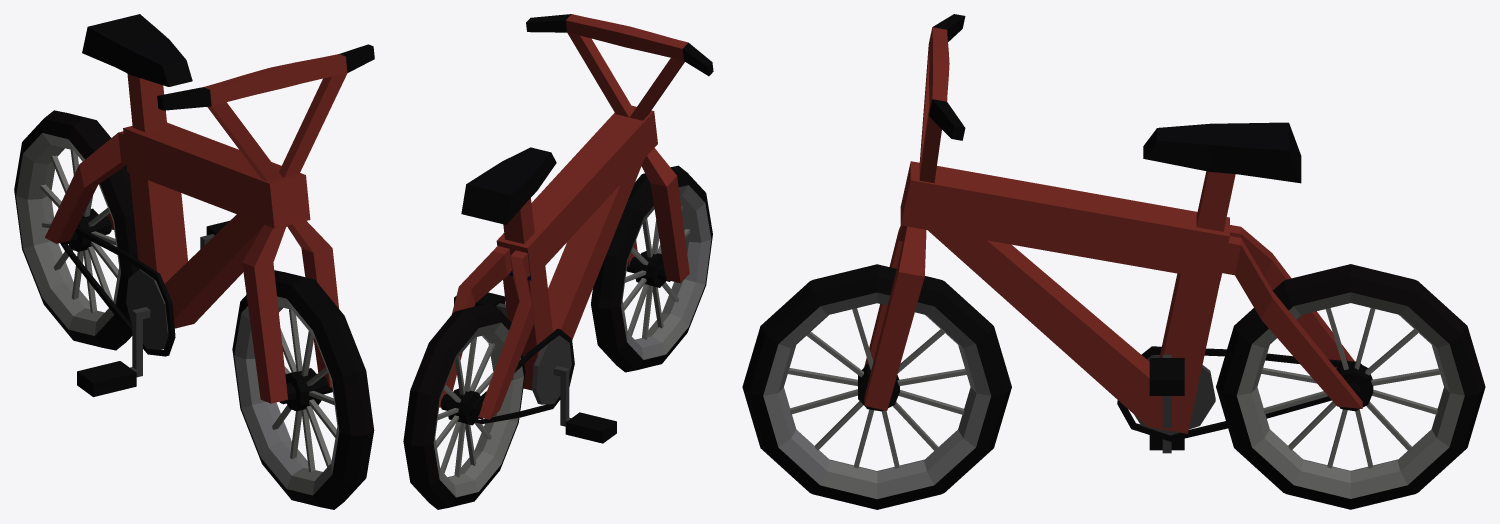
File: bicycle1.glb
3 renders of one model, left to right at view 1: azimuth 30°, elevation 25°; view 2: azimuth 150°, elevation 25°; view 3: azimuth 270°, elevation 25°, orthographic. The views are drawn at different scales.
Parts seen in each view (by area): view 1: Cube; view 2: Cube; view 3: Cube.
Boxes of the visible parts, x1,y1,x2,y2 form: Cube: [14, 14, 374, 509]; Cube: [403, 14, 713, 509]; Cube: [742, 14, 1485, 509].
Size of the model in its own units: 0.5555 by 1.04 by 1.56.
Materials: 1 (1 with a texture image).
